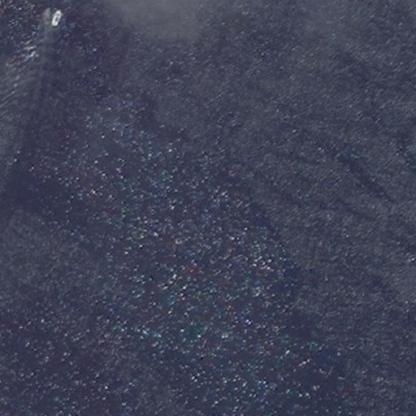ship: (48, 0, 62, 3)
